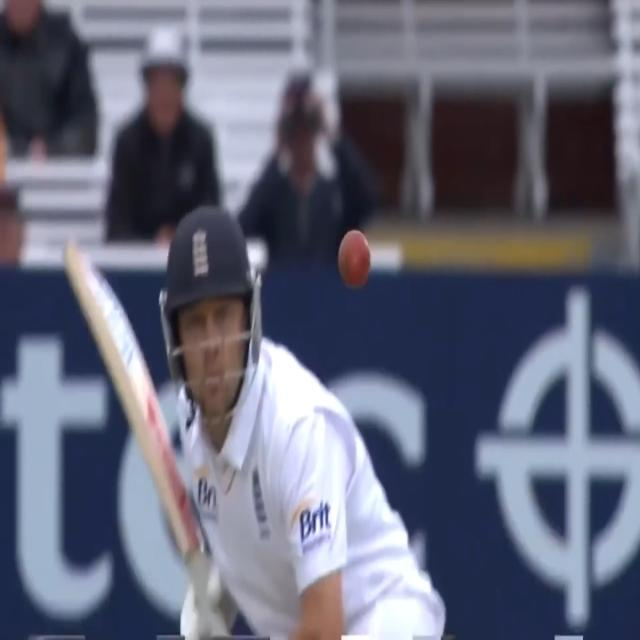ball: (337, 227, 372, 292)
